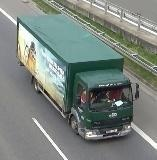truck: (17, 14, 133, 140)
